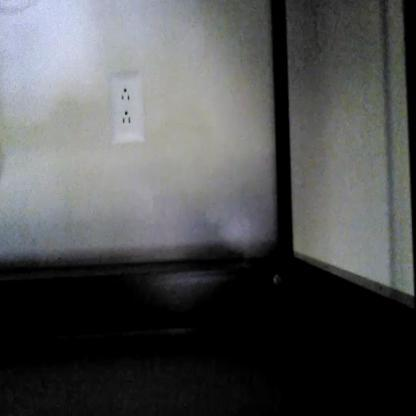OUTLET: (111, 72, 144, 145)
